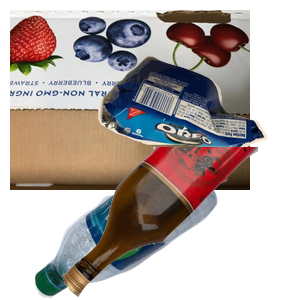cardboard: (10, 10, 250, 190)
glass: (60, 147, 300, 300)
plastic: (32, 154, 242, 300)
trash: (95, 53, 300, 195)
